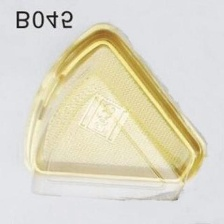plastic_box: (14, 16, 213, 211)
